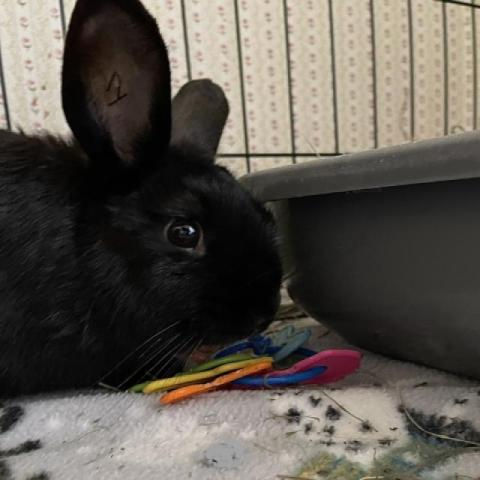small_animal: (0, 0, 284, 398)
